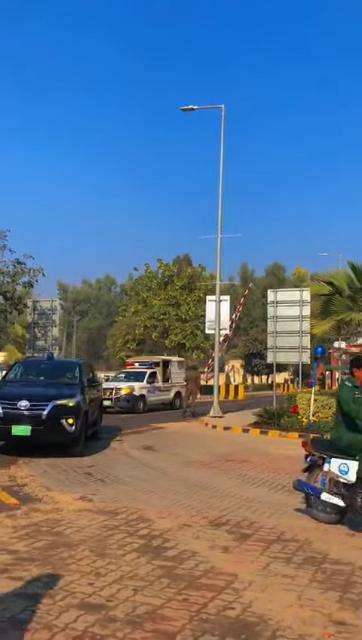plate: (10, 425, 32, 435)
